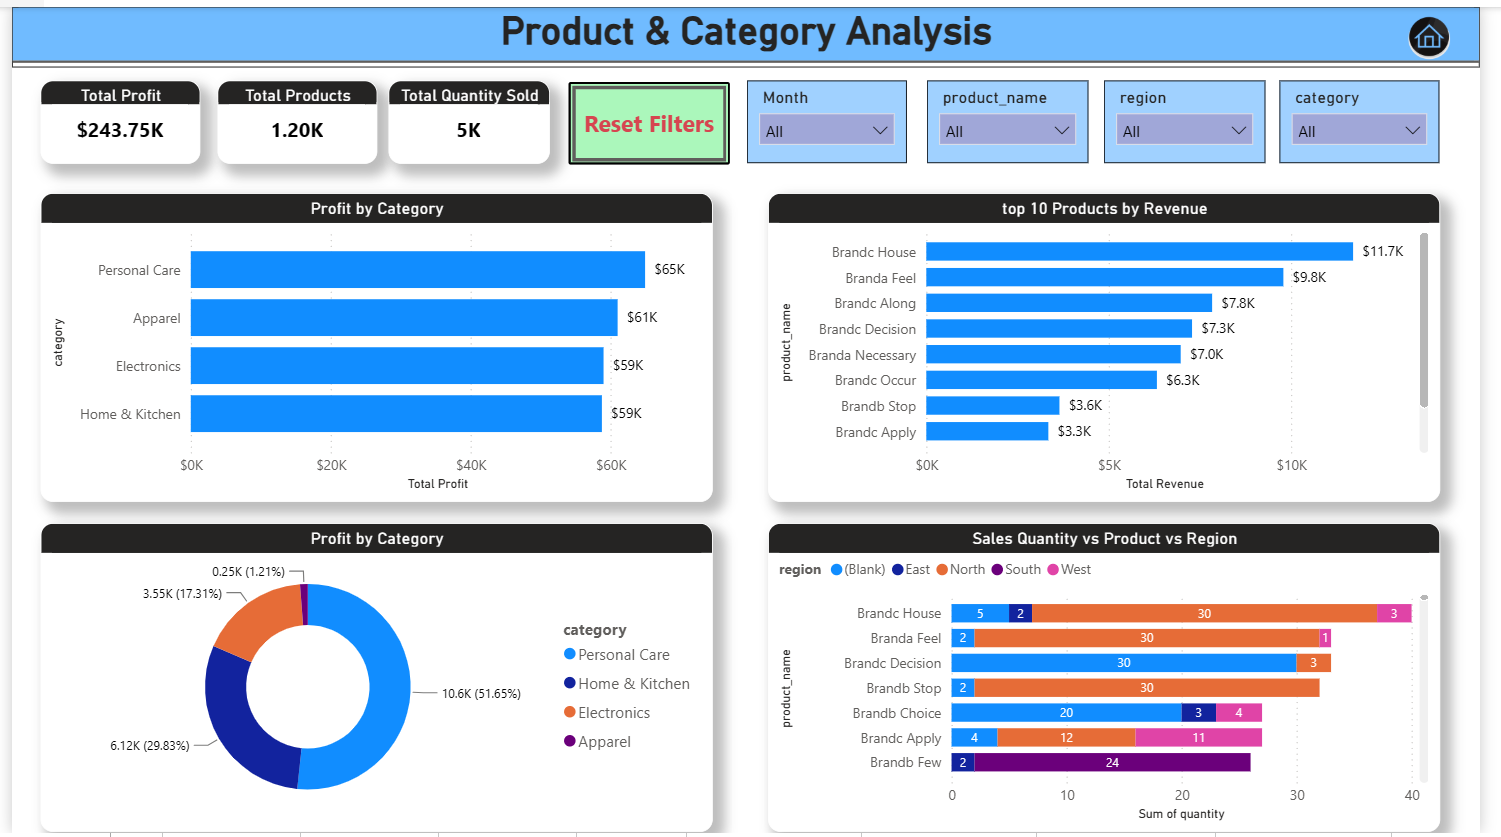

The dashboard page shown, as its layout file describes it:
{"tool":"powerbi","page":{"name":"DASHBOARD3","canvas":[1280,720],"ordinal":8},"visuals":[{"type":"textbox","title":"Product & Category Analysis","box":[0,0,1279.4,52.9],"z":0},{"type":"cardVisual","title":"Total Profit","fields":{"Data":["DateTable.Total Profit"]},"box":[24.2,63.6,139.3,72.7],"z":1000},{"type":"cardVisual","title":"Total Products","fields":{"Data":["DateTable.Total Products"]},"box":[178.7,63.6,139.3,72.7],"z":2000},{"type":"cardVisual","title":"Total Quantity Sold","fields":{"Data":["DateTable.Total Quantity Sold"]},"box":[328.6,63.6,140.8,72.7],"z":3000},{"type":"slicer","fields":{"Values":["DateTable.Month"]},"box":[640.5,63.6,139.3,72],"z":4000},{"type":"slicer","fields":{"Values":["cleaned_stores.region"]},"box":[952.4,63.6,140.8,72],"z":5000},{"type":"slicer","fields":{"Values":["cleaned_products.category"]},"box":[1105.4,63.6,139.3,72],"z":6000},{"type":"slicer","fields":{"Values":["cleaned_products.product_name"]},"box":[798,63.6,140.8,72],"z":7000},{"type":"clusteredBarChart","title":"Profit by Category","fields":{"Y":["DateTable.Total Profit"],"Category":["cleaned_products.category"]},"box":[24.2,162,586,269.5],"z":8000},{"type":"clusteredBarChart","title":"top 10 Products by Revenue","fields":{"Category":["cleaned_products.product_name"],"Y":["DateTable.Total Revenue"]},"box":[658.7,162,586,269.5],"z":9000},{"type":"donutChart","title":"Profit  by Category","fields":{"Category":["cleaned_products.category"],"Y":["DateTable.Total Profit"]},"box":[24.2,449.7,586,269.5],"z":10000},{"type":"barChart","title":"Sales Quantity vs Product vs Region","fields":{"Category":["cleaned_products.product_name"],"Y":["Sum(cleaned_sales.quantity)"],"Series":["cleaned_stores.region"]},"box":[658.7,449.7,586,269.5],"z":11000},{"type":"actionButton","title":"Reset Filters","box":[485.3,65.5,140.6,72],"z":12000},{"type":"image","box":[1203.4,1.4,64.7,49.6],"z":13000}]}

Visuals, with their boxes in screenshot pixels (x1, y1, x2, y2), scaled from the page's 1280x720 canvas onto the 1501x837 screenshot:
"Product & Category Analysis" textbox: 0,0,1500,61
"Total Profit" cardVisual: 28,74,192,158
"Total Products" cardVisual: 210,74,373,158
"Total Quantity Sold" cardVisual: 385,74,550,158
slicer - DateTable.Month: 751,74,914,158
slicer - cleaned_stores.region: 1117,74,1282,158
slicer - cleaned_products.category: 1296,74,1460,158
slicer - cleaned_products.product_name: 936,74,1101,158
"Profit by Category" clusteredBarChart: 28,188,716,502
"top 10 Products by Revenue" clusteredBarChart: 772,188,1460,502
"Profit  by Category" donutChart: 28,523,716,836
"Sales Quantity vs Product vs Region" barChart: 772,523,1460,836
"Reset Filters" actionButton: 569,76,734,160
image: 1411,2,1487,59
